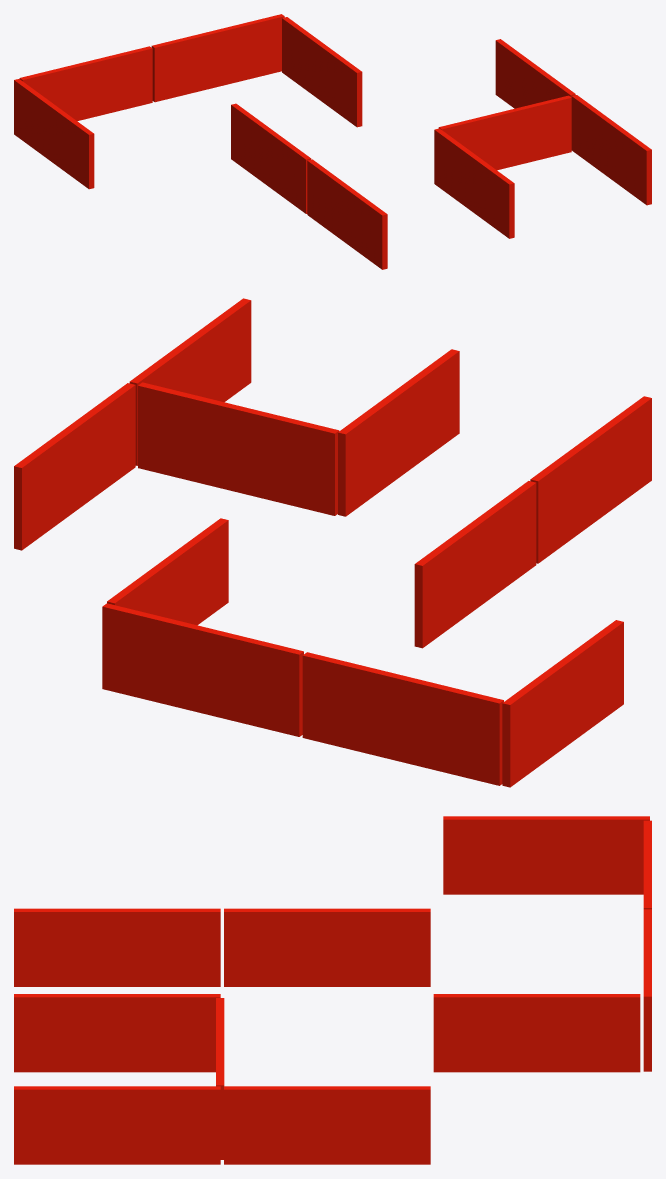
File: evaluation_maze3.obj
The picture shows the model from 3 angles, top to bottom: view 1: azimuth 30°, elevation 25°; view 2: azimuth 150°, elevation 25°; view 3: azimuth 270°, elevation 25°; orthographic projection. The views are drawn at different scales.
Parts seen in each view (by area): view 1: Plane.261; view 2: Plane.261; view 3: Plane.261.
Part boxes in pixels (box(x1,y1,x2,y2)): Plane.261: box(14, 14, 651, 269); Plane.261: box(14, 298, 651, 787); Plane.261: box(14, 816, 651, 1164).
Size of the model in its own units: 0.783 by 0.1 by 0.7717.
